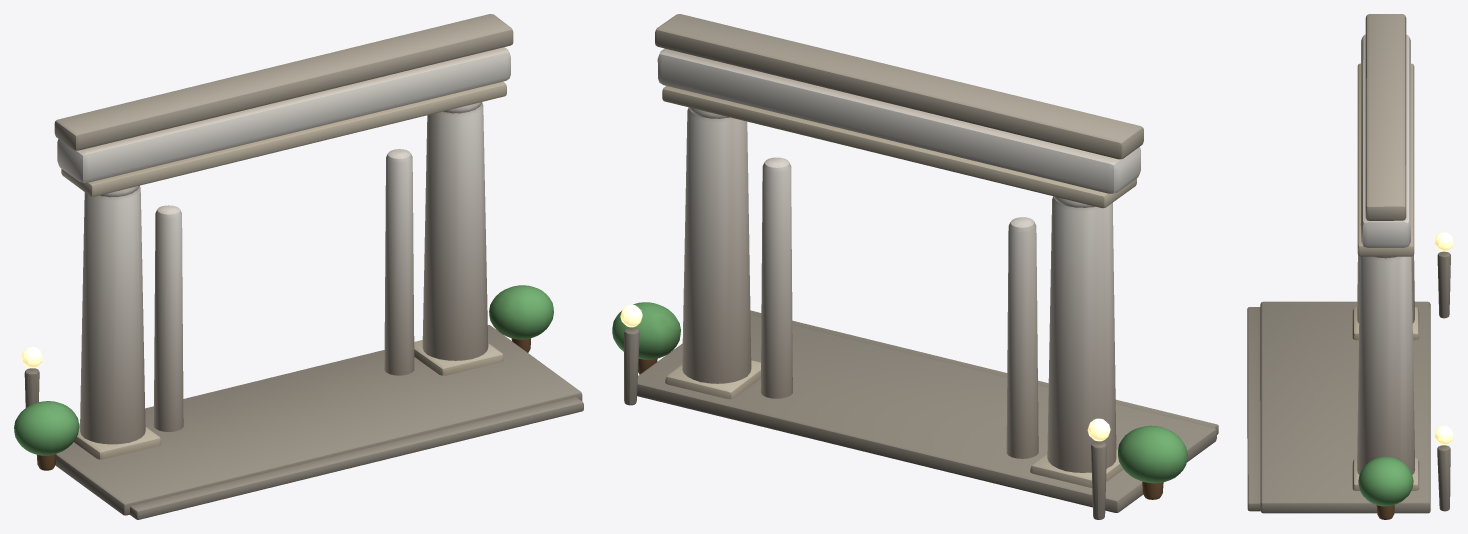
The picture shows the model from 3 angles, left to right: view 1: azimuth 30°, elevation 25°; view 2: azimuth 150°, elevation 25°; view 3: azimuth 270°, elevation 25°; orthographic projection. The views are drawn at different scales.
Parts seen in each view (by area): view 1: gate_a6246cf8; view 2: gate_a6246cf8; view 3: gate_a6246cf8.
Boxes of the visible parts, x1,y1,x2,y2 form: gate_a6246cf8: (14, 14, 583, 519); gate_a6246cf8: (612, 14, 1218, 519); gate_a6246cf8: (1247, 14, 1453, 519).
Bounding box in the file's own units: 6.85 × 4.15 × 2.54.
